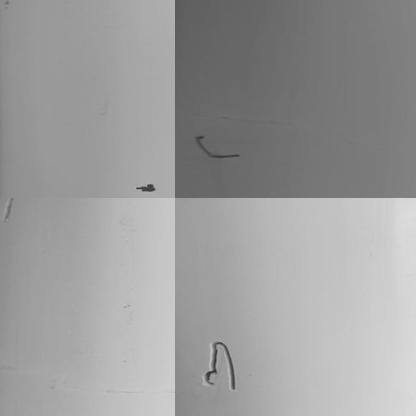fengxi: (196, 335, 240, 394), (194, 133, 243, 163)
kongdong: (131, 179, 157, 193)
sunshang: (3, 196, 18, 221)
